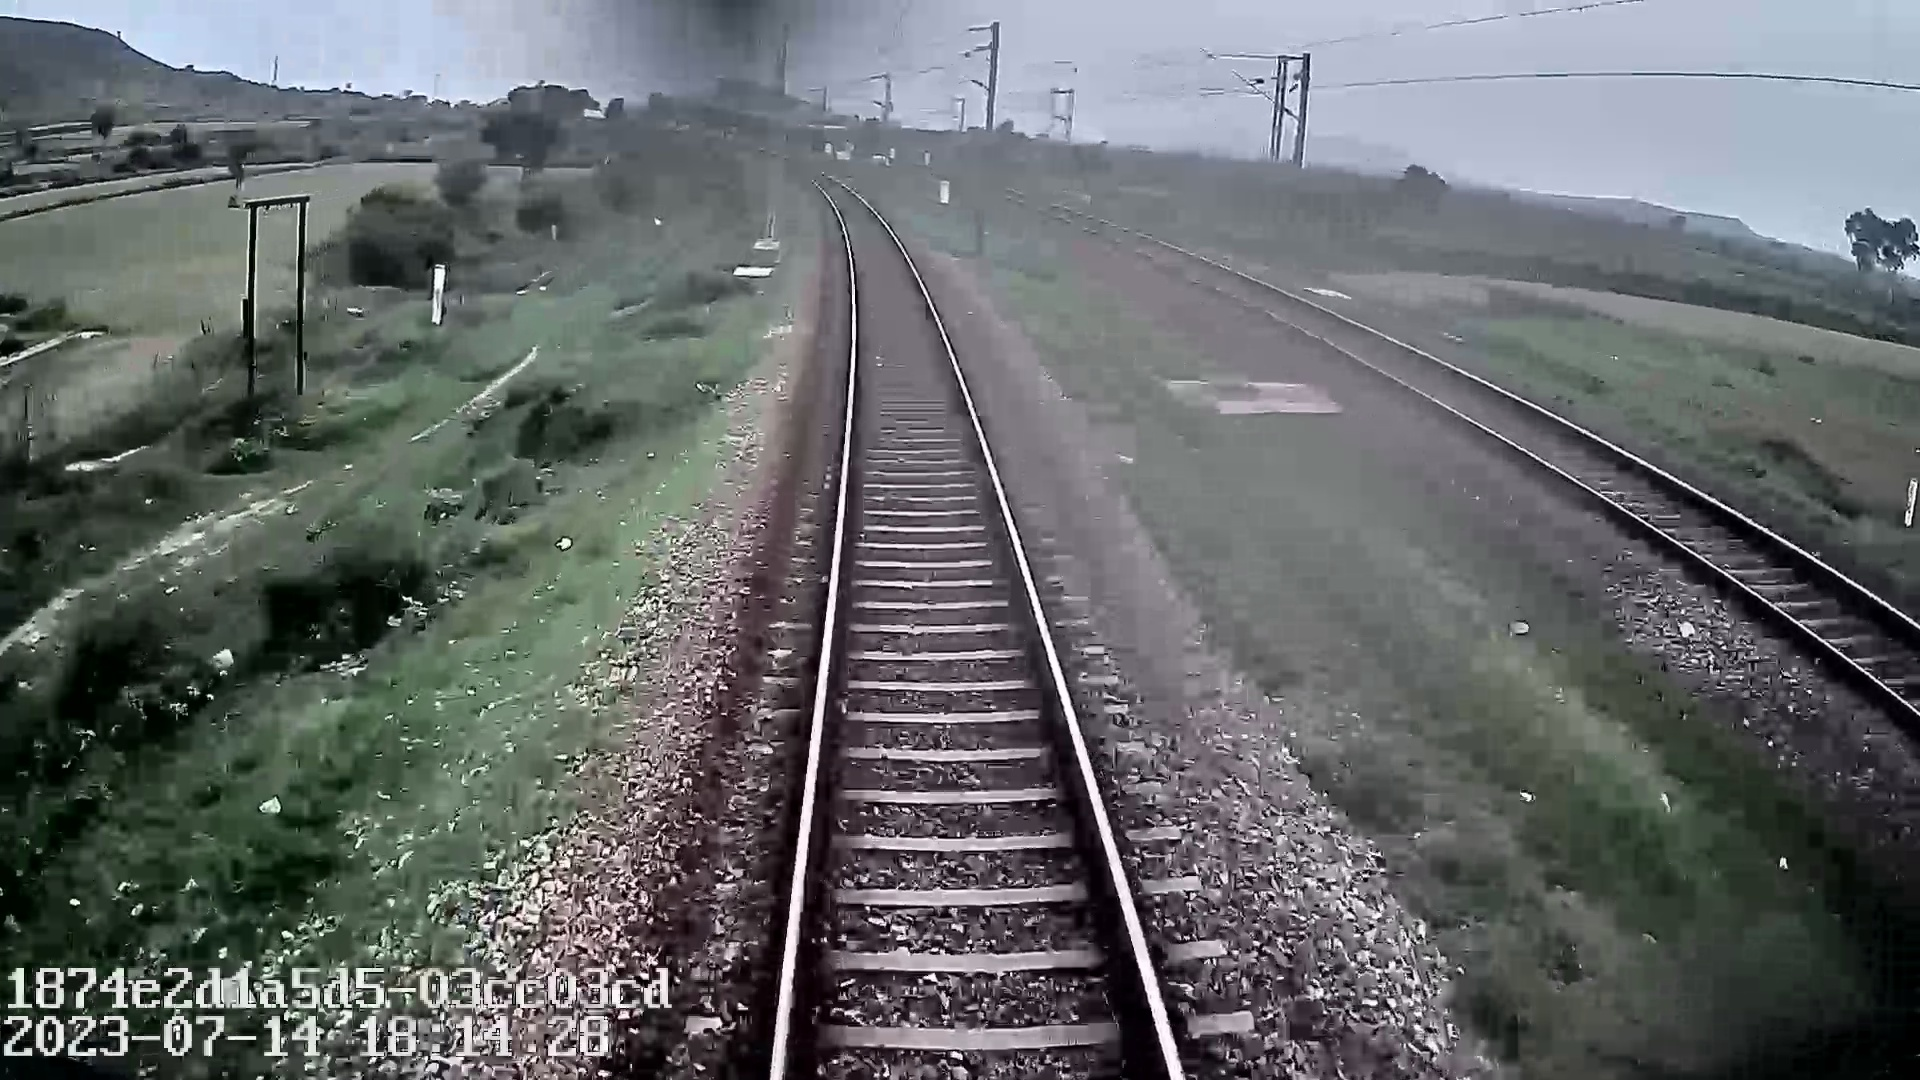track1: (778, 199, 1164, 1044)
track2: (1185, 262, 1919, 707)
